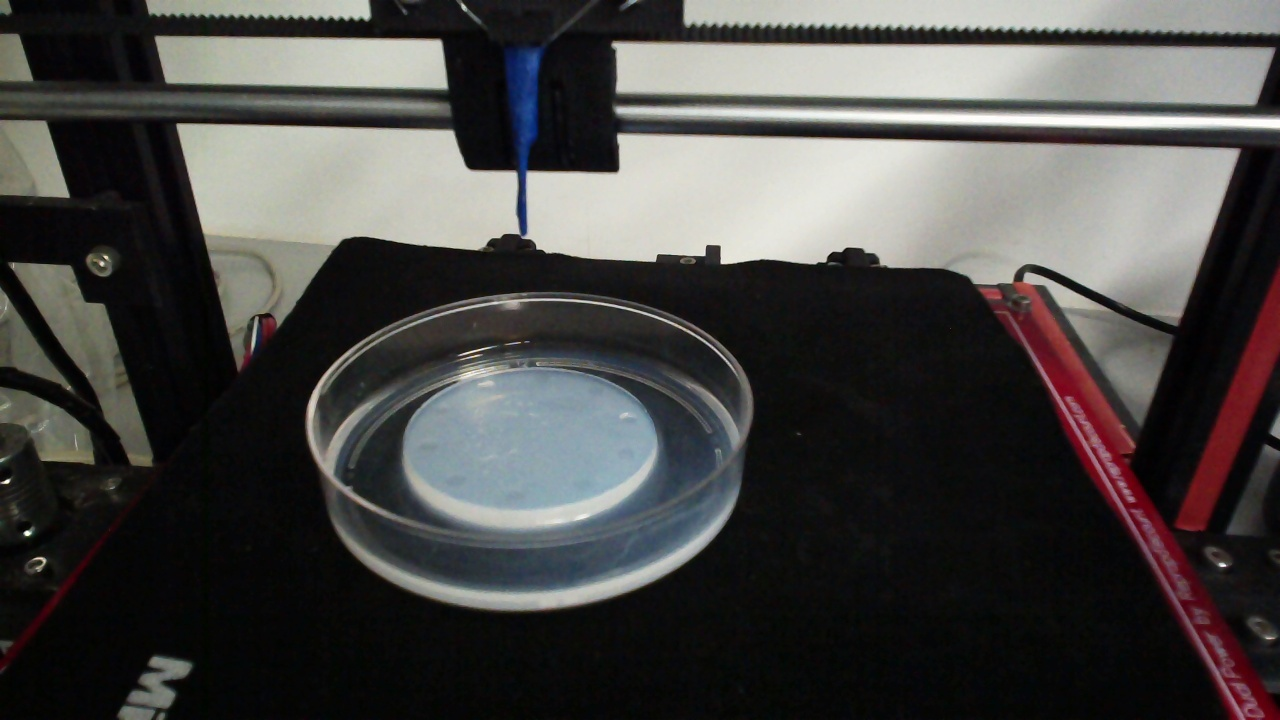groove: (503, 487, 527, 505), (572, 476, 599, 491), (444, 473, 466, 488), (617, 411, 639, 426), (474, 379, 497, 392), (417, 439, 437, 453), (616, 446, 635, 460), (586, 383, 606, 395), (531, 373, 552, 384), (433, 402, 450, 414)
needle: (505, 50, 540, 235)
